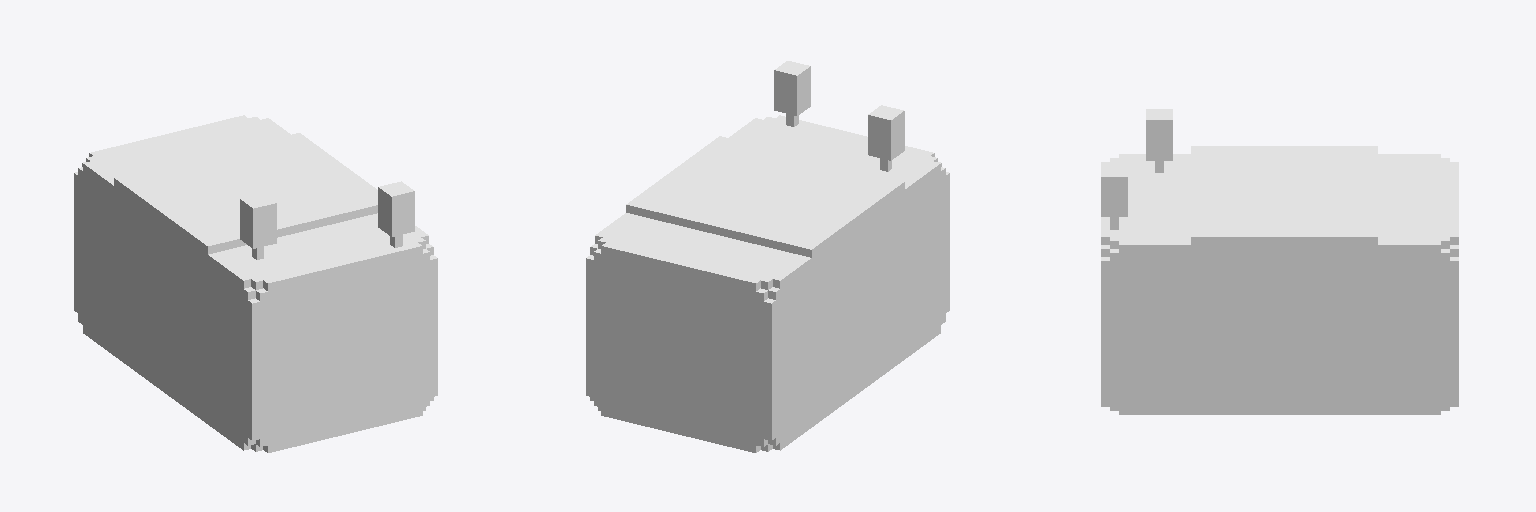
File: taxLvlIcon2.obj
The picture shows the model from 3 angles: view 1: azimuth 30°, elevation 25°; view 2: azimuth 150°, elevation 25°; view 3: azimuth 270°, elevation 25°; orthographic projection.
Parts seen in each view (by area): view 1: object 1; view 2: object 1; view 3: object 1.
Part boxes in pixels (x1,y1,x2,y2): object 1: (74,115,437,452); object 1: (586,61,949,452); object 1: (1101,109,1458,414).
Size of the model in its own units: 2.4 by 2.8 by 4.